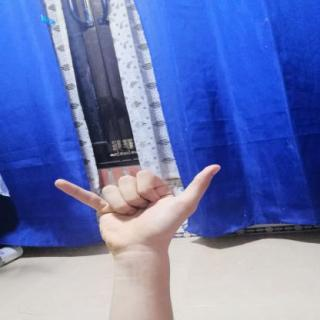YA: (42, 156, 236, 268)
